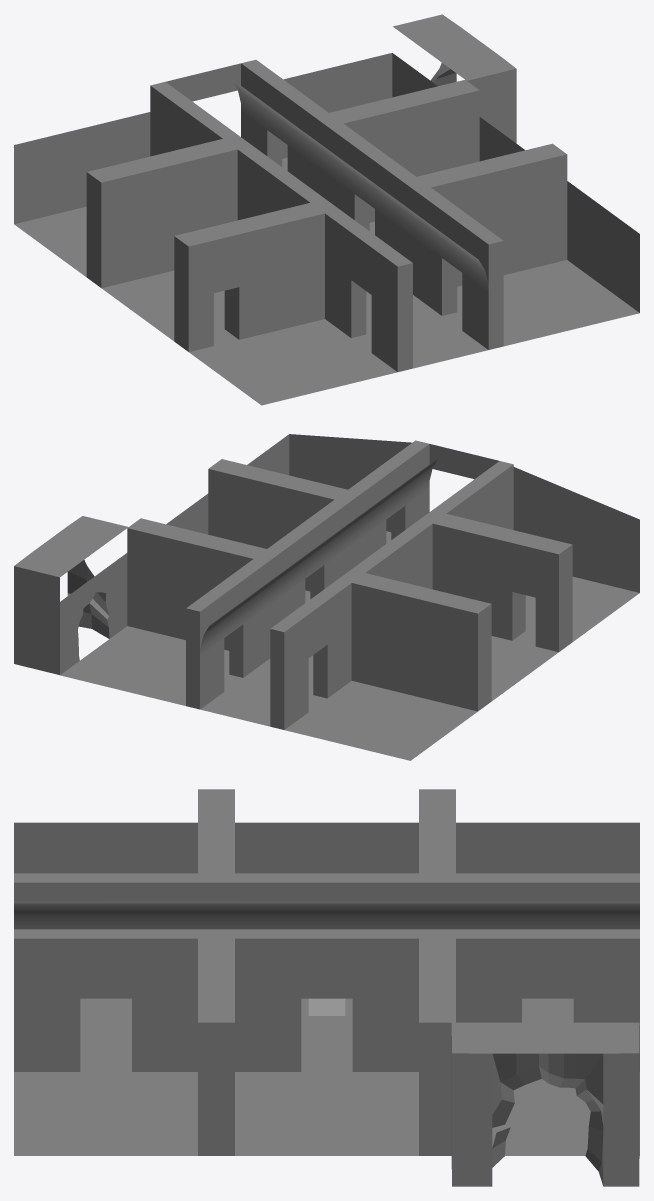
Rendered from prison_collider.gltf.
3 views of the same model, one above another, from view 1: azimuth 30°, elevation 25°; view 2: azimuth 150°, elevation 25°; view 3: azimuth 270°, elevation 25° (orthographic). The views are drawn at different scales.
Visible parts, largest first — view 1: Walls; view 2: Walls; view 3: Walls, Cube.
Boxes of the visible parts, box(x1,y1,x2,y2) form: Walls: box(14, 14, 639, 405); Walls: box(14, 434, 639, 760); Walls: box(14, 789, 639, 1186); Cube: box(308, 998, 345, 1015).
Bounding box in the file's own units: 17 × 4 × 17.
1 material, 1 textured.
